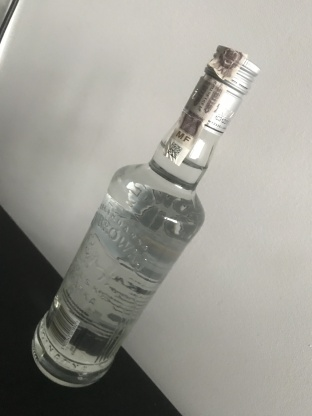nakretka: (180, 43, 261, 138)
